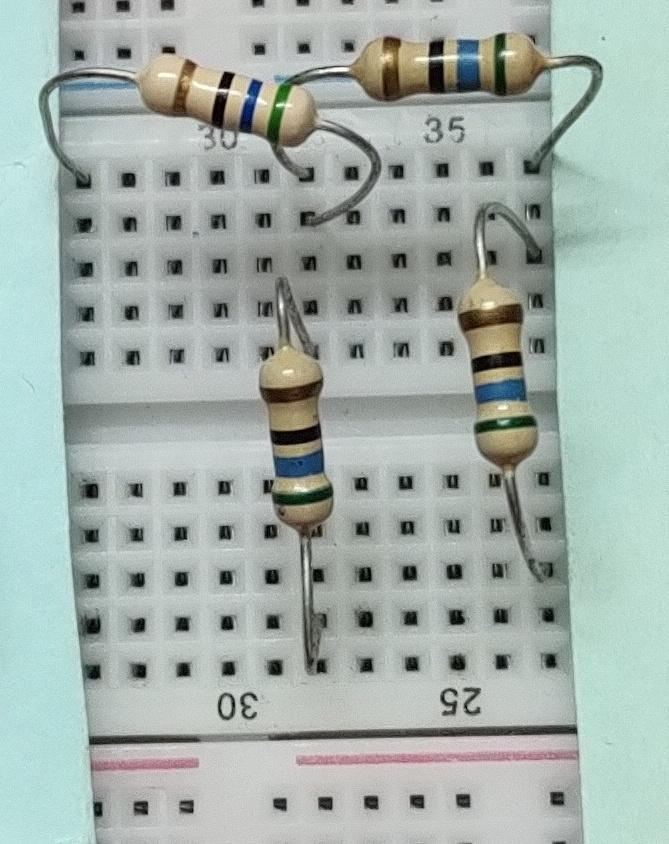resistor: (129, 44, 323, 164), (445, 269, 549, 487), (249, 329, 347, 551), (352, 27, 568, 103)
